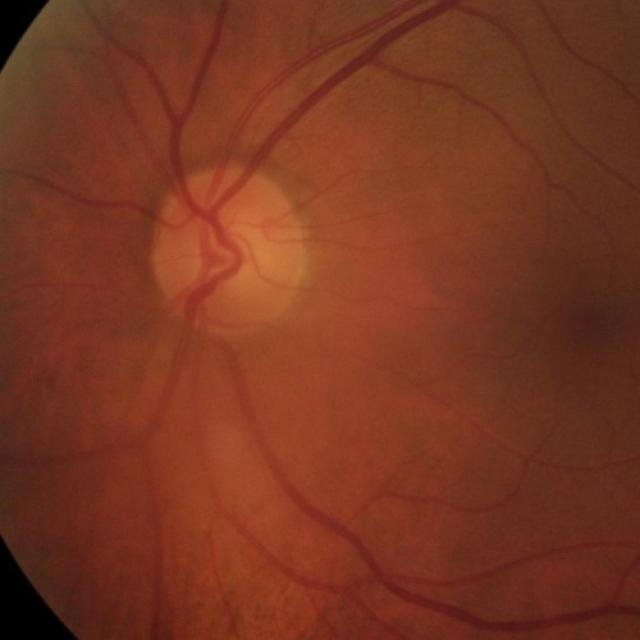OC: (198, 223, 266, 288)
OD: (150, 170, 307, 336)
